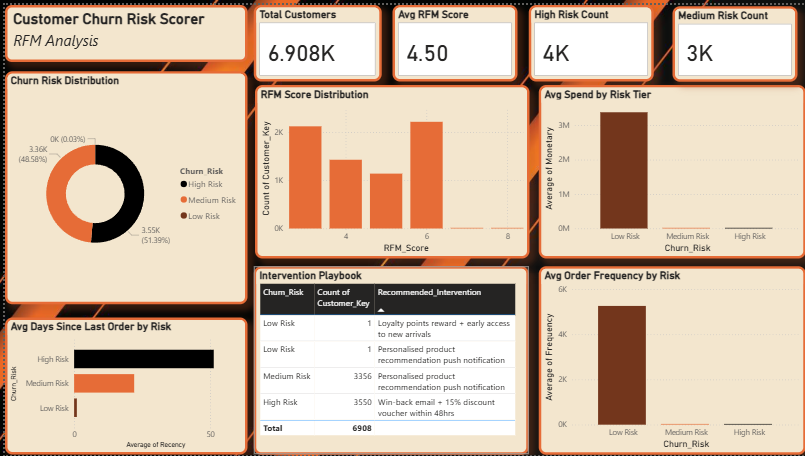

The page's visual inventory and layout, read from the dashboard file:
{"tool":"powerbi","page":{"name":" Churn Risk Overview","canvas":[1280,720],"ordinal":0},"visuals":[{"type":"textbox","title":"Customer Churn Risk Scorer ","box":[0,0,388.1,91],"z":0},{"type":"cardVisual","title":" Total Customers","fields":{"Data":["CountNonNull(rfm_scored_customers.Customer_Key)"]},"box":[398.5,0,204.5,122.4],"z":1000},{"type":"cardVisual","title":"High Risk Count","fields":{"Data":["rfm_scored_customers.High Risk Count"]},"box":[838.8,0,200,122.4],"z":2000},{"type":"cardVisual","title":"Avg RFM Score","fields":{"Data":["Avg(rfm_scored_customers.RFM_Score)"]},"box":[619.4,0,200,122.4],"z":3000},{"type":"donutChart","title":"Churn Risk Distribution","fields":{"Category":["rfm_scored_customers.Churn_Risk"],"Y":["CountNonNull(rfm_scored_customers.Customer_Key)"]},"box":[0,106,388.1,373.1],"z":4000},{"type":"clusteredBarChart","title":"Avg Days Since Last Order by Risk","fields":{"Category":["rfm_scored_customers.Churn_Risk"],"Y":["Avg(rfm_scored_customers.Recency)"]},"box":[0,500,388.1,219.4],"z":5000},{"type":"clusteredColumnChart","title":"Avg Spend by Risk Tier","fields":{"Category":["rfm_scored_customers.Churn_Risk"],"Y":["Avg(rfm_scored_customers.Monetary)"]},"box":[853.7,128.4,426.9,277.6],"z":6000},{"type":"clusteredColumnChart","title":"RFM Score Distribution","fields":{"Category":["rfm_scored_customers.RFM_Score"],"Y":["CountNonNull(rfm_scored_customers.Customer_Key)"]},"box":[400,128.4,438.8,277.6],"z":7000},{"type":"tableEx","title":"Intervention Playbook","fields":{"Values":["rfm_scored_customers.Churn_Risk","rfm_scored_customers.Customer_Key","rfm_scored_customers.Recommended_Intervention"]},"box":[398.5,417.9,440.3,301.5],"z":8000},{"type":"clusteredColumnChart","title":"Avg Order Frequency by Risk","fields":{"Category":["rfm_scored_customers.Churn_Risk"],"Y":["Avg(rfm_scored_customers.Frequency)"]},"box":[853.7,417.9,426.9,301.5],"z":9000},{"type":"cardVisual","title":"Medium Risk Count","fields":{"Data":["rfm_scored_customers.Medium Risk Count"]},"box":[1067.2,1.5,200,120.9],"z":10000}]}

Visuals, with their boxes in screenshot pixels (x1, y1, x2, y2), scaled from the page's 1280x720 canvas onto the 805x456 screenshot:
"Customer Churn Risk Scorer " textbox: 0, 0, 244, 58
" Total Customers" cardVisual: 251, 0, 379, 78
"High Risk Count" cardVisual: 528, 0, 653, 78
"Avg RFM Score" cardVisual: 390, 0, 515, 78
"Churn Risk Distribution" donutChart: 0, 67, 244, 303
"Avg Days Since Last Order by Risk" clusteredBarChart: 0, 317, 244, 455
"Avg Spend by Risk Tier" clusteredColumnChart: 537, 81, 804, 257
"RFM Score Distribution" clusteredColumnChart: 252, 81, 528, 257
"Intervention Playbook" tableEx: 251, 265, 528, 455
"Avg Order Frequency by Risk" clusteredColumnChart: 537, 265, 804, 455
"Medium Risk Count" cardVisual: 671, 1, 797, 78
